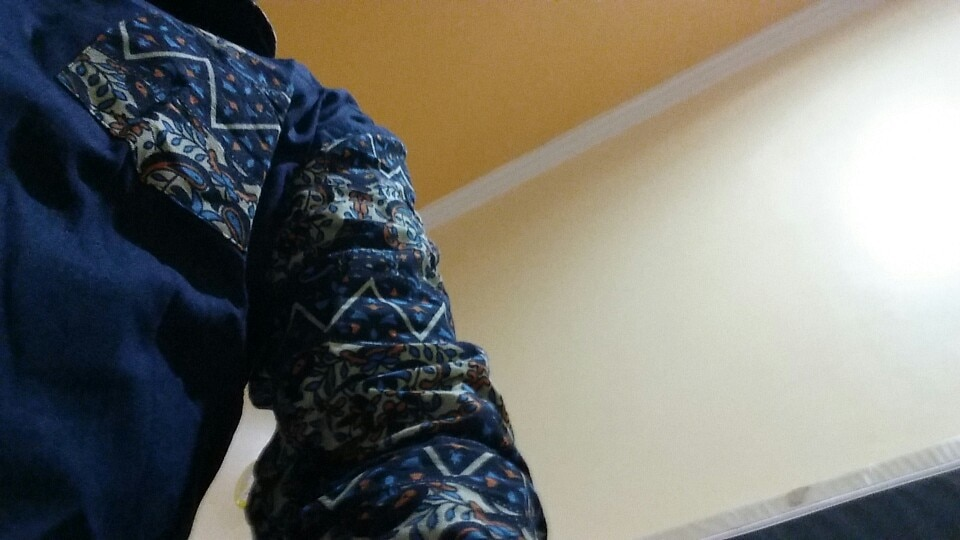shirts: (2, 3, 549, 540)
